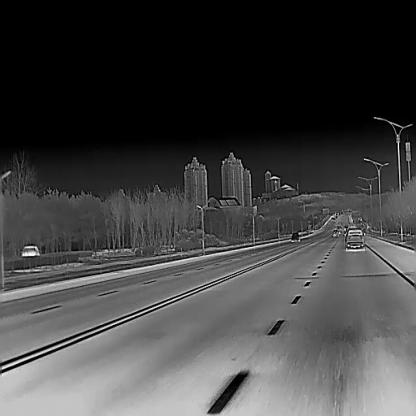car: (344, 227, 366, 250), (20, 244, 40, 256), (290, 232, 300, 242), (332, 229, 338, 237)
